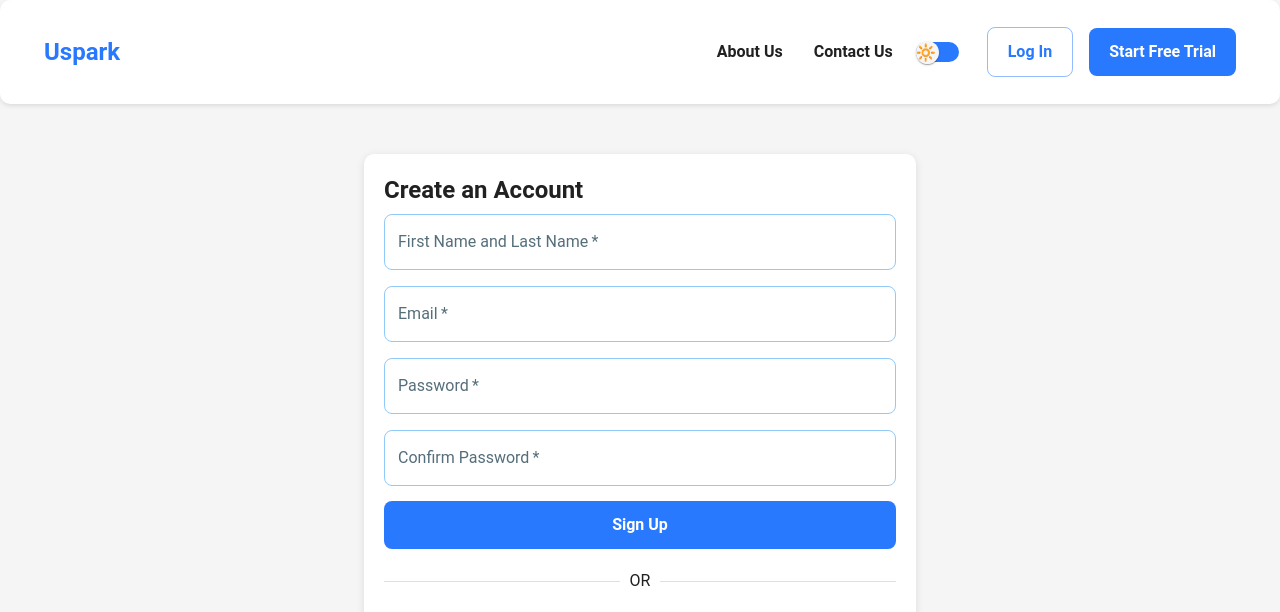
Test case: Signup Page › should require all fields to be filled
Step 1. Click the button with test id "signup-button" → coordinates (640, 525), box top-left (384, 501), bottom-right (896, 549)
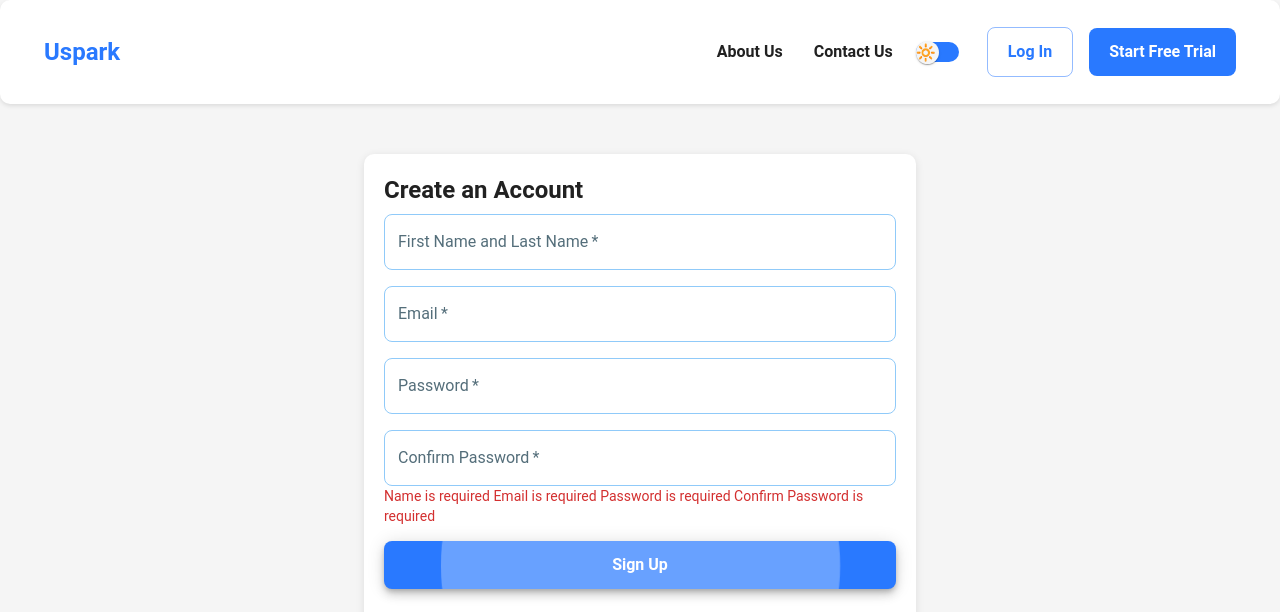
expect the text with test id "signup-error" is shown: met, box top-left (384, 486), bottom-right (896, 526)
expect the text with test id "signup-error" shows "Name is required": met, box top-left (384, 488), bottom-right (863, 524)
expect the text with test id "signup-error" shows "Email is required": met, box top-left (384, 488), bottom-right (863, 524)
